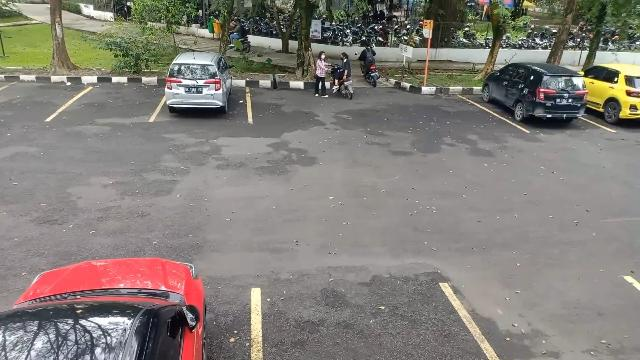empty: (254, 286, 476, 360), (71, 68, 163, 122), (0, 66, 72, 122)
occupied: (481, 78, 589, 132), (160, 69, 250, 121)
